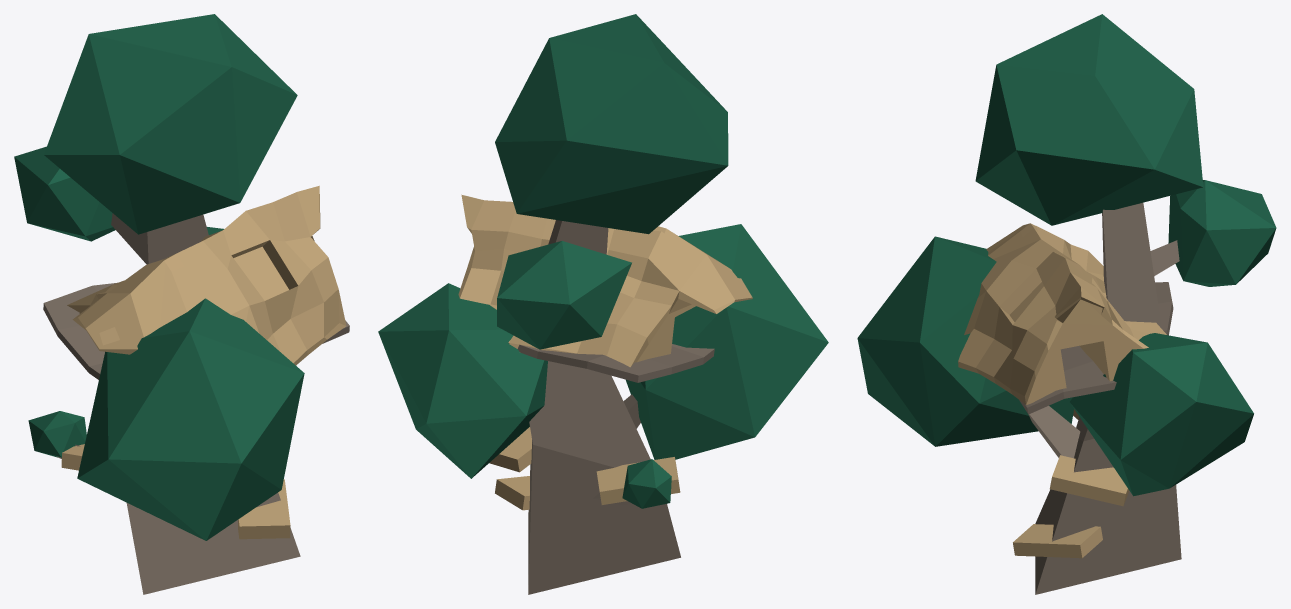
Rendered from primary_house_2.fbx.
3 views of the same model, side by side, from view 1: azimuth 30°, elevation 25°; view 2: azimuth 150°, elevation 25°; view 3: azimuth 270°, elevation 25° (orthographic). The views are drawn at different scales.
Parts seen in each view (by area): view 1: house_2, live, step; view 2: house_2, live, step; view 3: house_2, live, step.
Part boxes in pixels (bbox=[...]): house_2: bbox=[14, 14, 304, 594]; live: bbox=[67, 185, 346, 365]; step: bbox=[43, 282, 349, 539]; house_2: bbox=[378, 14, 828, 594]; live: bbox=[458, 194, 752, 367]; step: bbox=[489, 344, 714, 510]; house_2: bbox=[857, 14, 1276, 594]; live: bbox=[958, 223, 1166, 404]; step: bbox=[1013, 282, 1173, 558].
Size of the model in its own units: 429 by 689 by 522.
